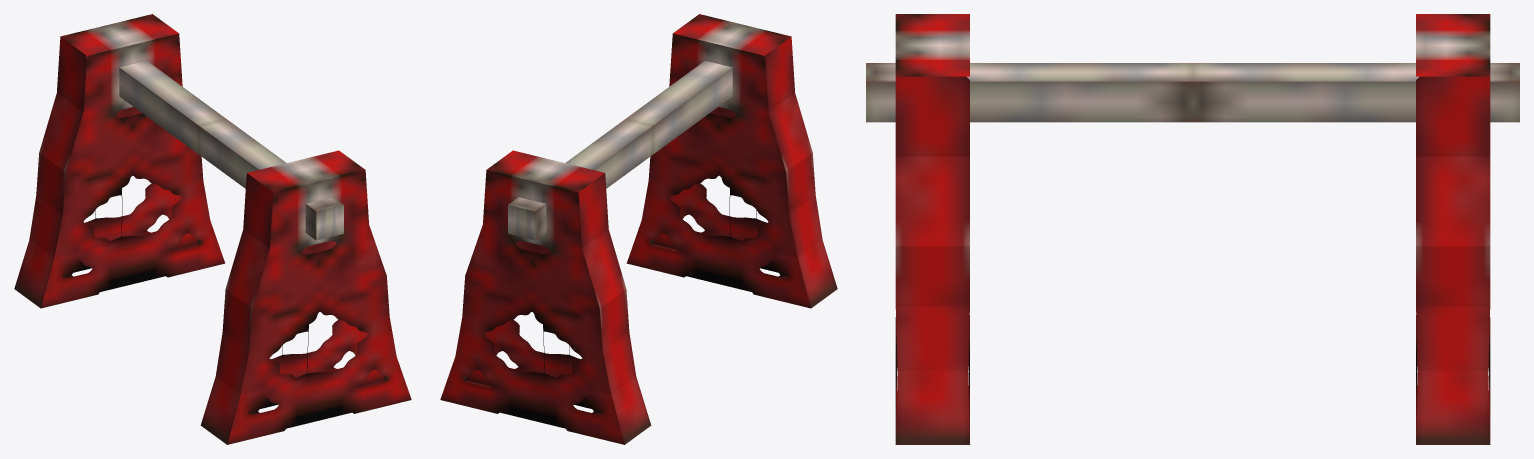
Rendered from Poly_SF_Outside_B_Barricade_01.obj.
3 views of the same model, side by side, from view 1: azimuth 30°, elevation 25°; view 2: azimuth 150°, elevation 25°; view 3: azimuth 270°, elevation 25° (orthographic). The views are drawn at different scales.
Parts seen in each view (by area): view 1: Cube.004, Cube.001; view 2: Cube.004, Cube.001; view 3: Cube.004, Cube.001.
Part boxes in pixels (x1,y1,x2,y2): Cube.004: (14, 14, 411, 444); Cube.001: (119, 60, 343, 240); Cube.004: (440, 14, 837, 444); Cube.001: (508, 60, 732, 240); Cube.004: (895, 14, 1490, 444); Cube.001: (866, 63, 1519, 122).
Size of the model in its own units: 0.4 by 0.5 by 0.88.
Materials: 1 (1 with a texture image).
